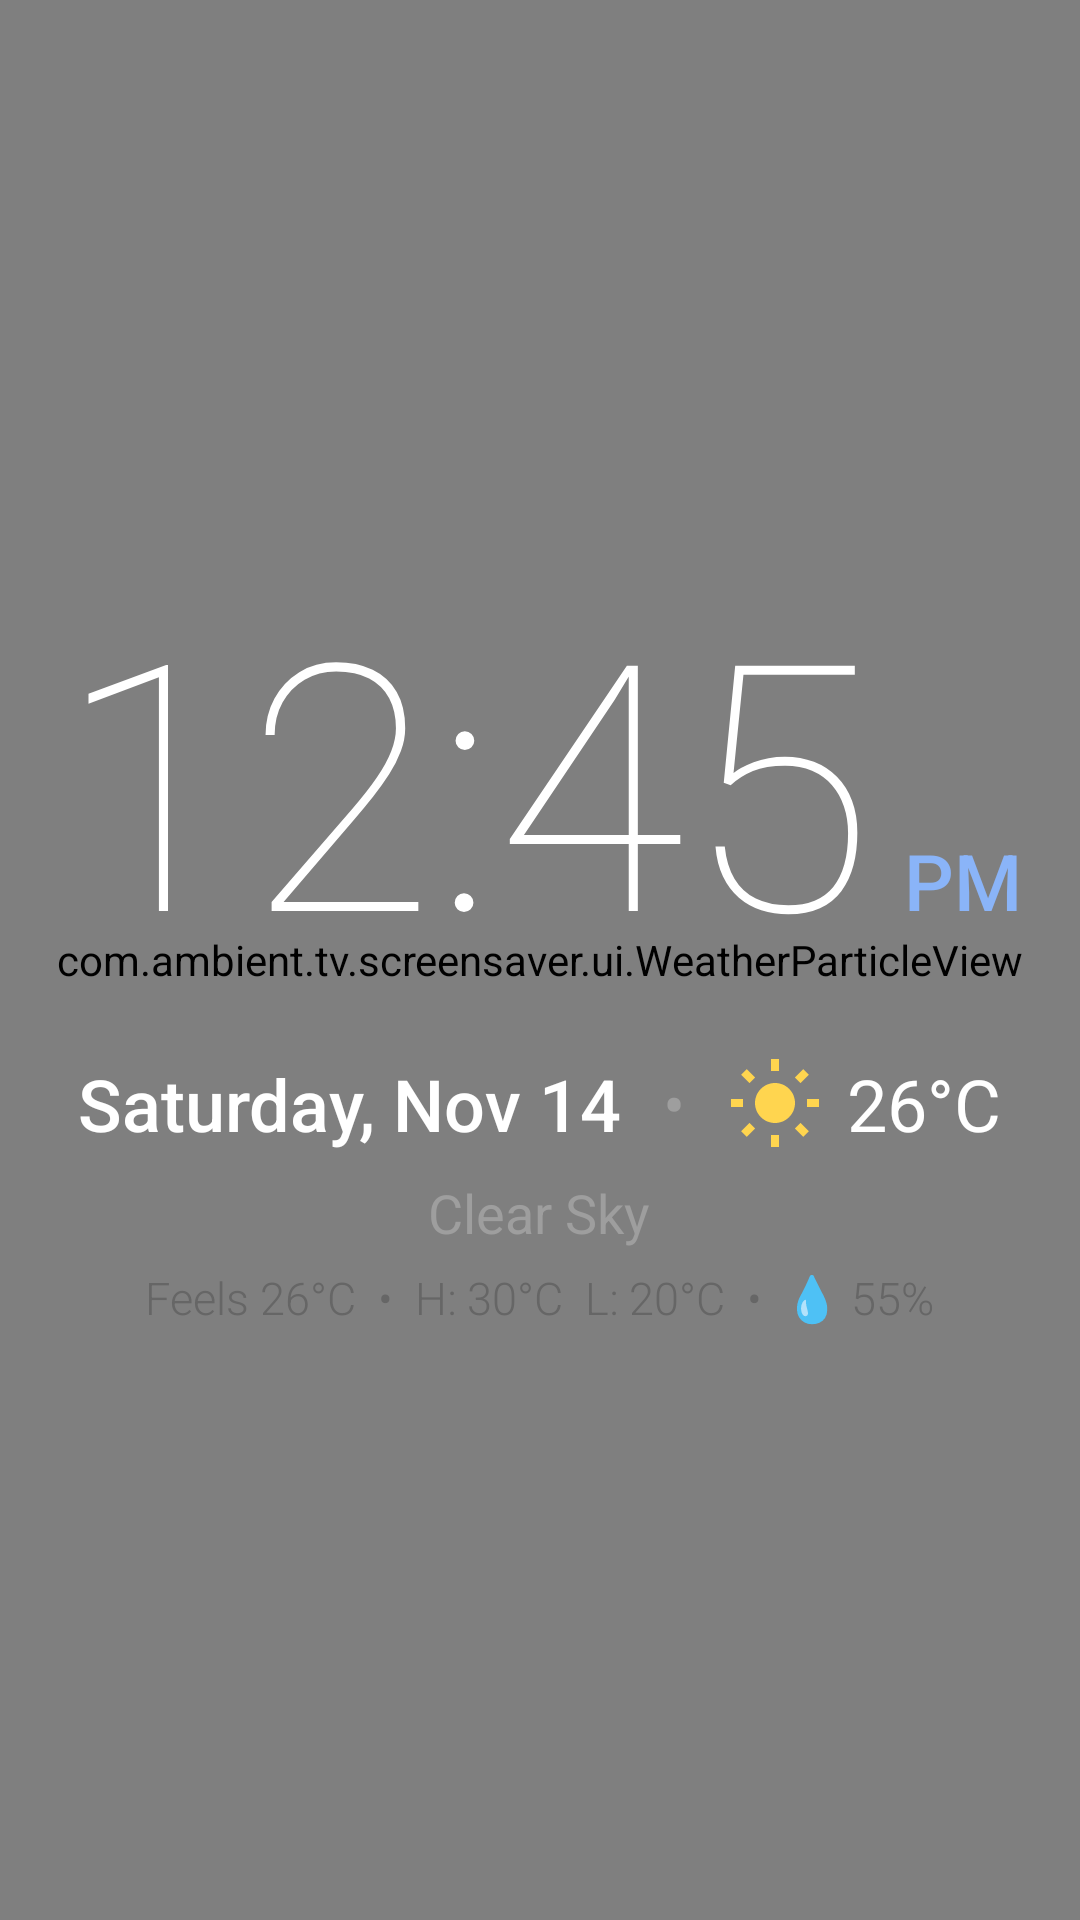

Icons on this 1080*1920 Android screen, each with the point to tap as (x,y):
Weather icon: (775,1103)
